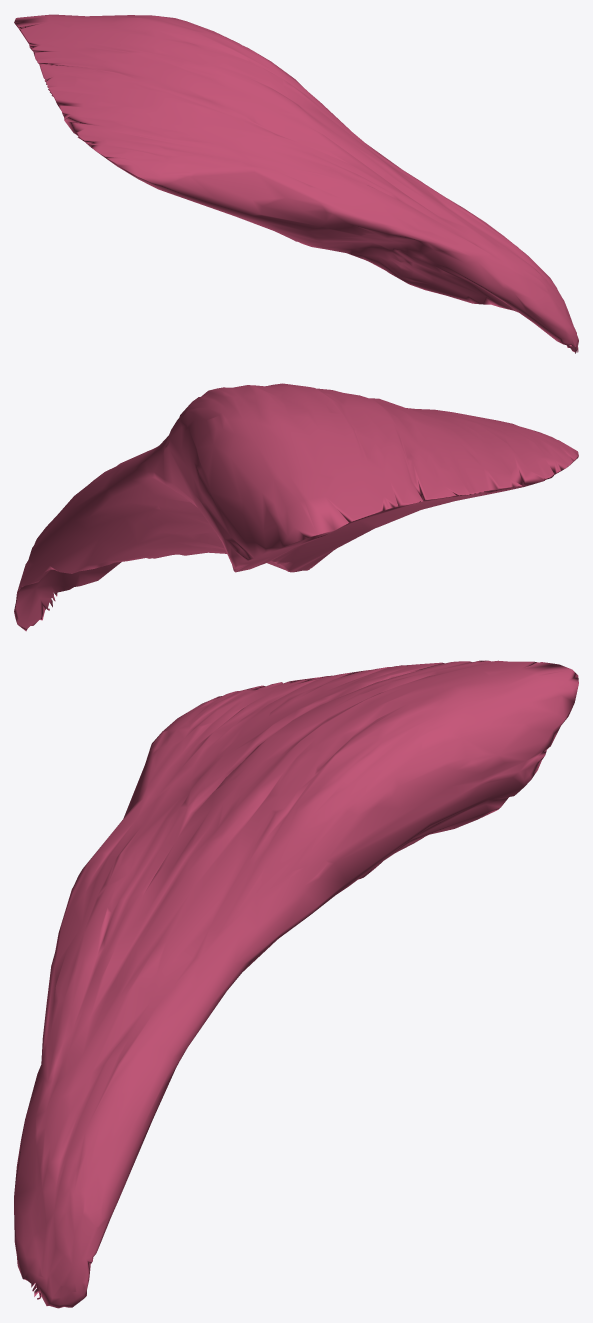
The picture shows the model from 3 angles, top to bottom: view 1: azimuth 30°, elevation 25°; view 2: azimuth 150°, elevation 25°; view 3: azimuth 270°, elevation 25°; orthographic projection. The views are drawn at different scales.
Parts seen in each view (by area): view 1: 左侧冈下肌; view 2: 左侧冈下肌; view 3: 左侧冈下肌.
Part boxes in pixels (x1=…): 左侧冈下肌: x1=14, y1=14, x2=578, y2=353; 左侧冈下肌: x1=14, y1=383, x2=578, y2=631; 左侧冈下肌: x1=14, y1=660, x2=578, y2=1308.
Size of the model in its own units: 0.1953 by 0.1353 by 0.1673.
